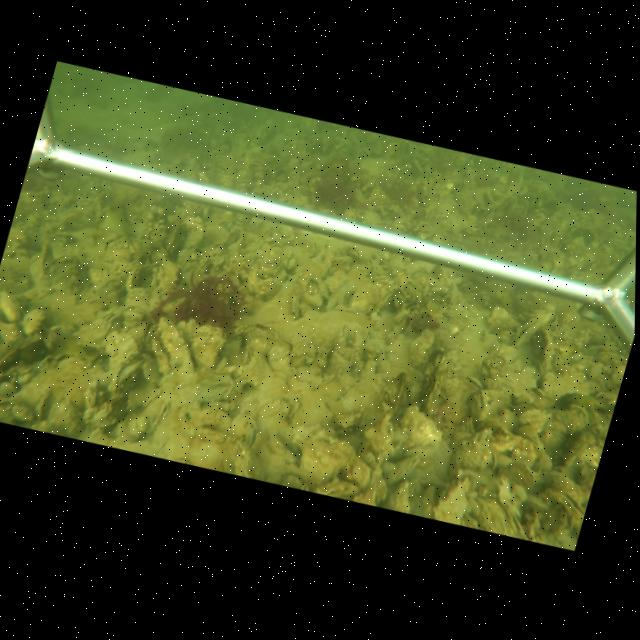Oyster-Closed: (445, 426, 495, 474), (508, 306, 555, 348), (380, 452, 421, 485), (344, 453, 373, 493), (533, 326, 556, 373), (467, 388, 489, 426), (125, 264, 149, 292), (74, 291, 104, 305), (338, 288, 354, 306)
Oyster-Indeterminate: (295, 434, 354, 482), (398, 404, 442, 451), (430, 474, 469, 525), (188, 323, 226, 370), (406, 328, 436, 370), (381, 480, 413, 514)
Oyster-Open: (107, 352, 143, 398), (542, 488, 583, 523)
